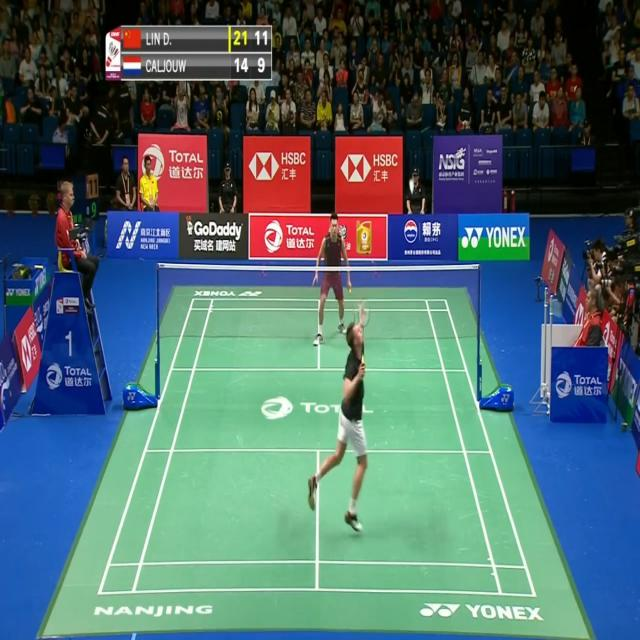Player1: (302, 288, 378, 544)
Player2: (305, 212, 357, 348)
